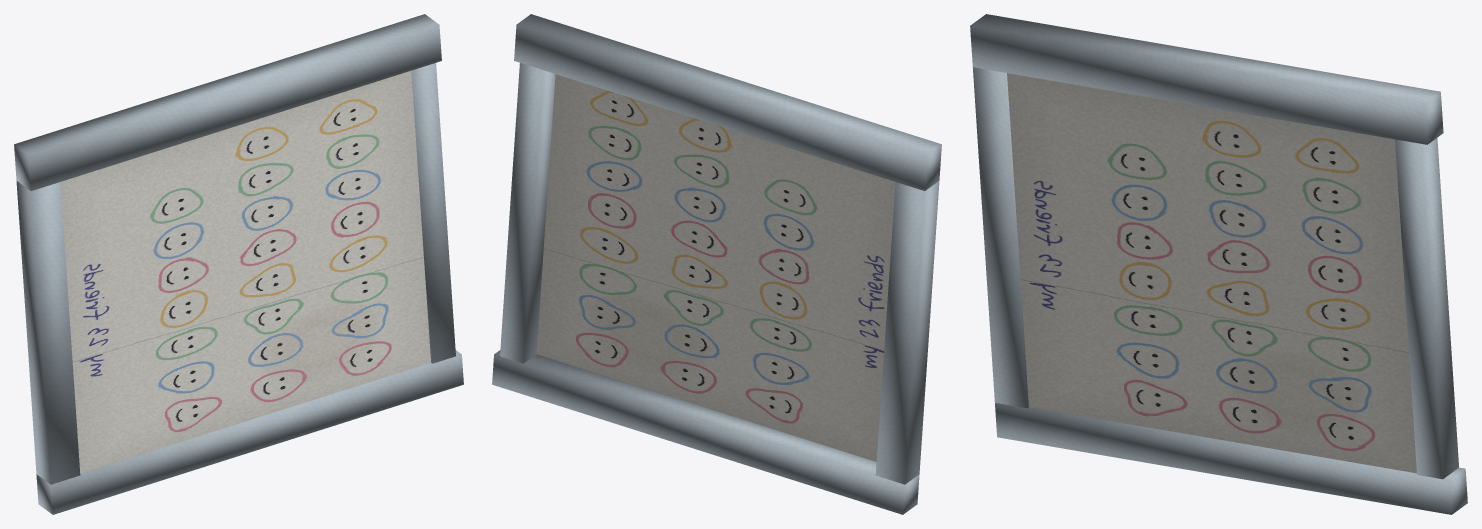
File: Cadre_friends.glb
3 renders of one model, left to right at view 1: azimuth 30°, elevation 25°; view 2: azimuth 150°, elevation 25°; view 3: azimuth 330°, elevation 25°, orthographic. The views are drawn at different scales.
Parts seen in each view (by area): view 1: Dessin, Cadre; view 2: Dessin, Cadre; view 3: Dessin, Cadre.
Part boxes in pixels (left/top/right/bottom): Dessin: left=60, top=71, right=430, bottom=473; Cadre: left=14, top=14, right=463, bottom=514; Dessin: left=536, top=74, right=895, bottom=461; Cadre: left=492, top=14, right=941, bottom=514; Dessin: left=1007, top=73, right=1416, bottom=473; Cadre: left=970, top=14, right=1467, bottom=514.
Bounding box in the file's own units: 0.5179 × 0.4502 × 0.03.
Materials: 2 (2 with a texture image).
